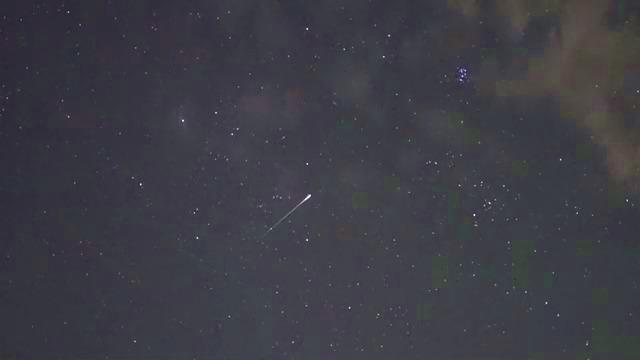meteorite: (252, 190, 325, 236)
